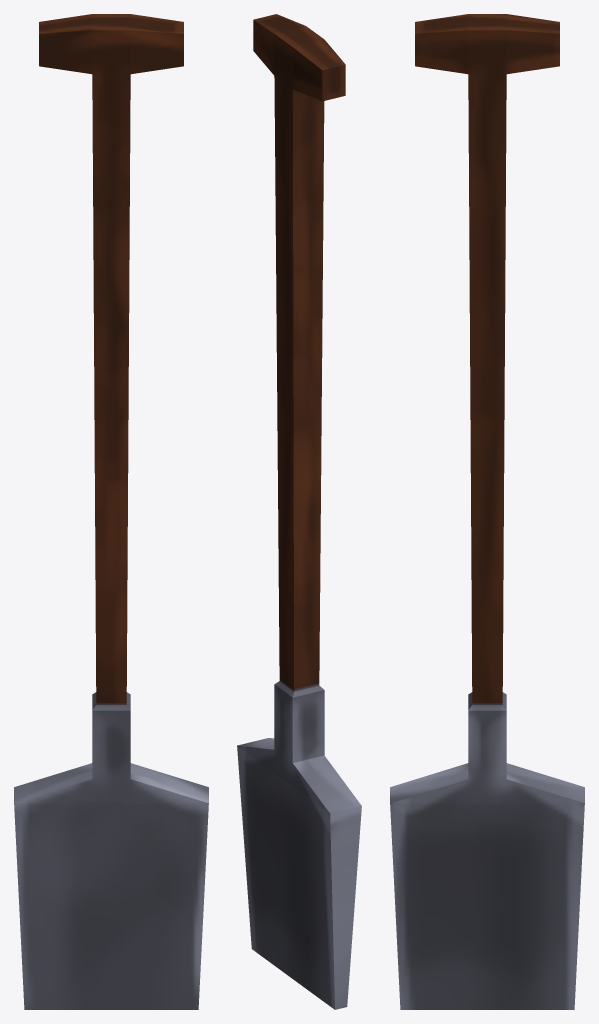
The model's file is Shovel.fbx.
The picture shows the model from 3 angles, left to right: view 1: azimuth 90°, elevation 25°; view 2: azimuth 210°, elevation 25°; view 3: azimuth 270°, elevation 25°; orthographic projection. The views are drawn at different scales.
Parts seen in each view (by area): view 1: Shovel; view 2: Shovel; view 3: Shovel.
Part boxes in pixels (left/top/right/bottom): Shovel: left=14, top=14, right=208, bottom=1009; Shovel: left=237, top=14, right=361, bottom=1009; Shovel: left=390, top=14, right=584, bottom=1009.
Size of the model in its own units: 13.44 by 381 by 68.33.
